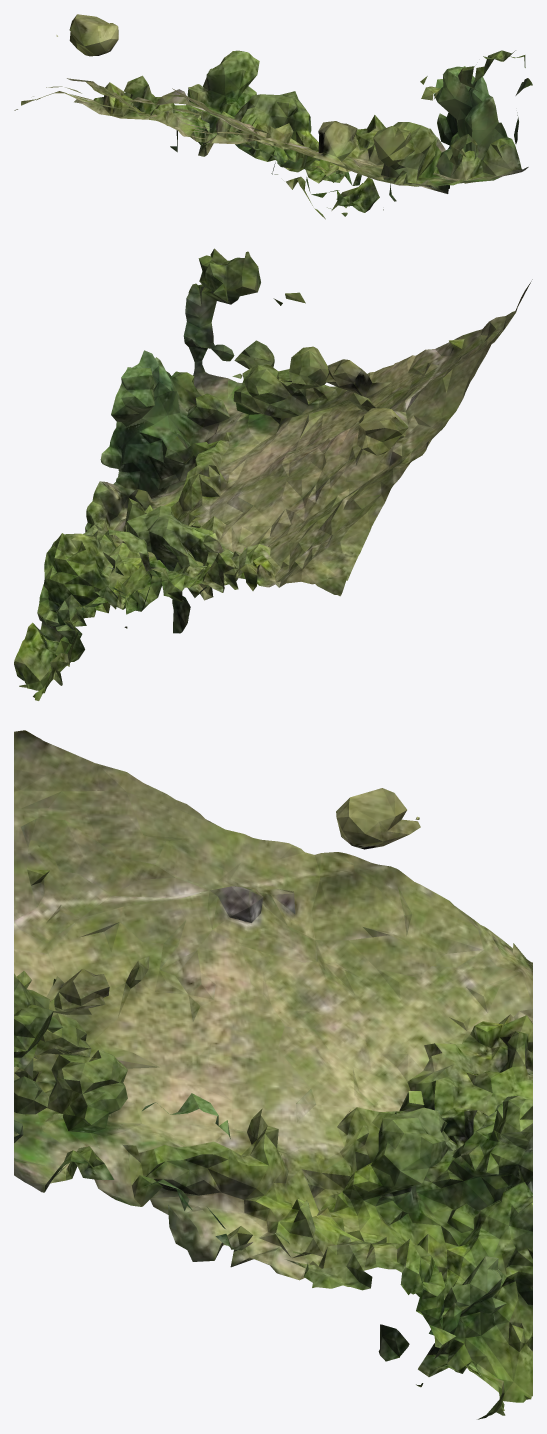
The picture shows the model from 3 angles, top to bottom: view 1: azimuth 30°, elevation 25°; view 2: azimuth 150°, elevation 25°; view 3: azimuth 270°, elevation 25°; orthographic projection. The views are drawn at different scales.
Size of the model in its own units: 52.22 by 52.22 by 52.22.
5 materials, 5 textured.
